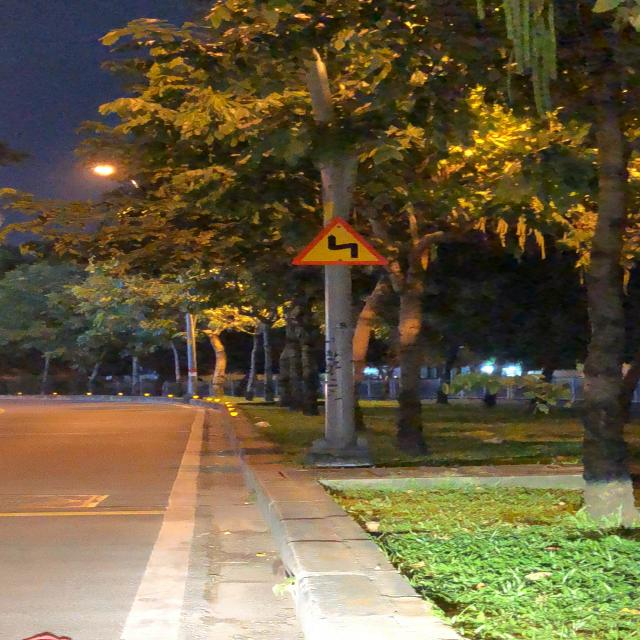Bien bao nhieu cho ngoat nguy hiem lien tiep: (280, 209, 404, 270)
